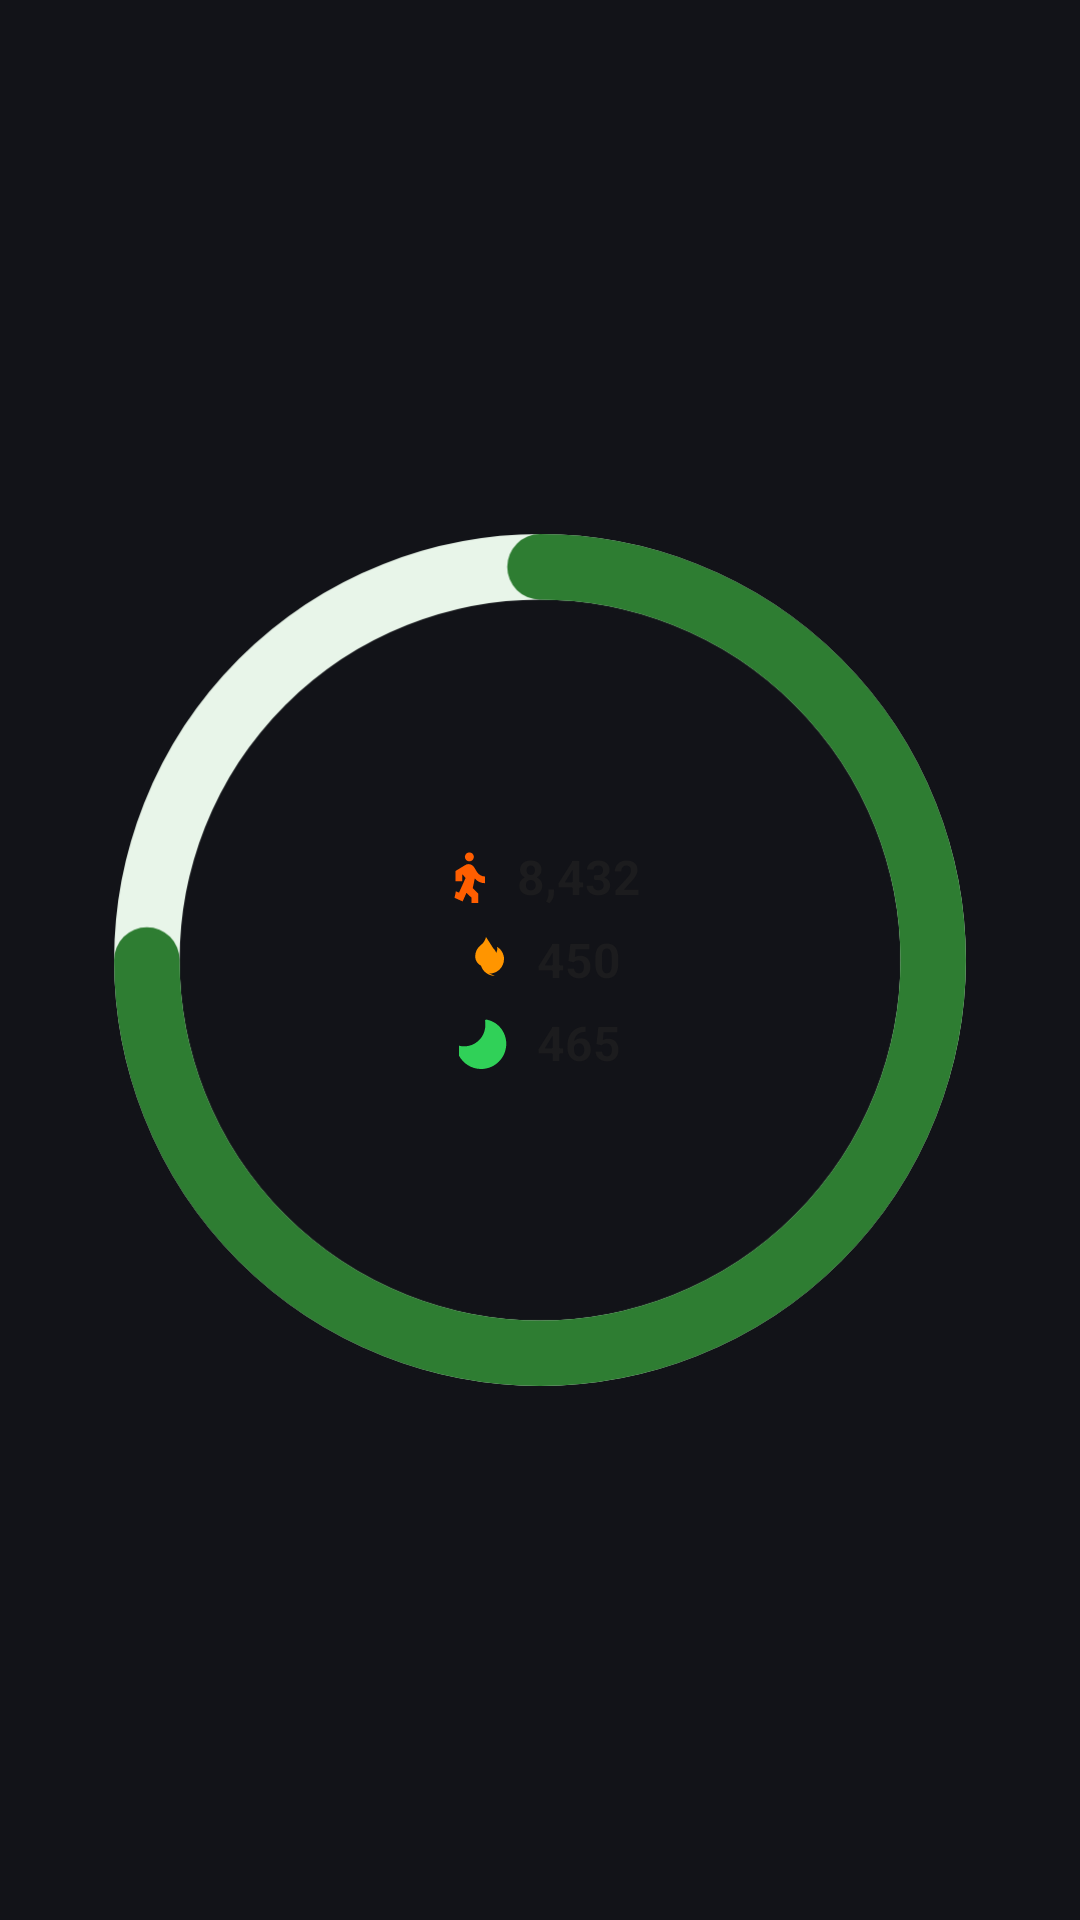

Icons on this 1080×1920 Android screen, each with its box as BBox(x1, y1, x2, y2):
Calories: BBox(475, 937, 504, 976)
Sleep: BBox(459, 1019, 507, 1069)
Steps: BBox(454, 852, 485, 903)
